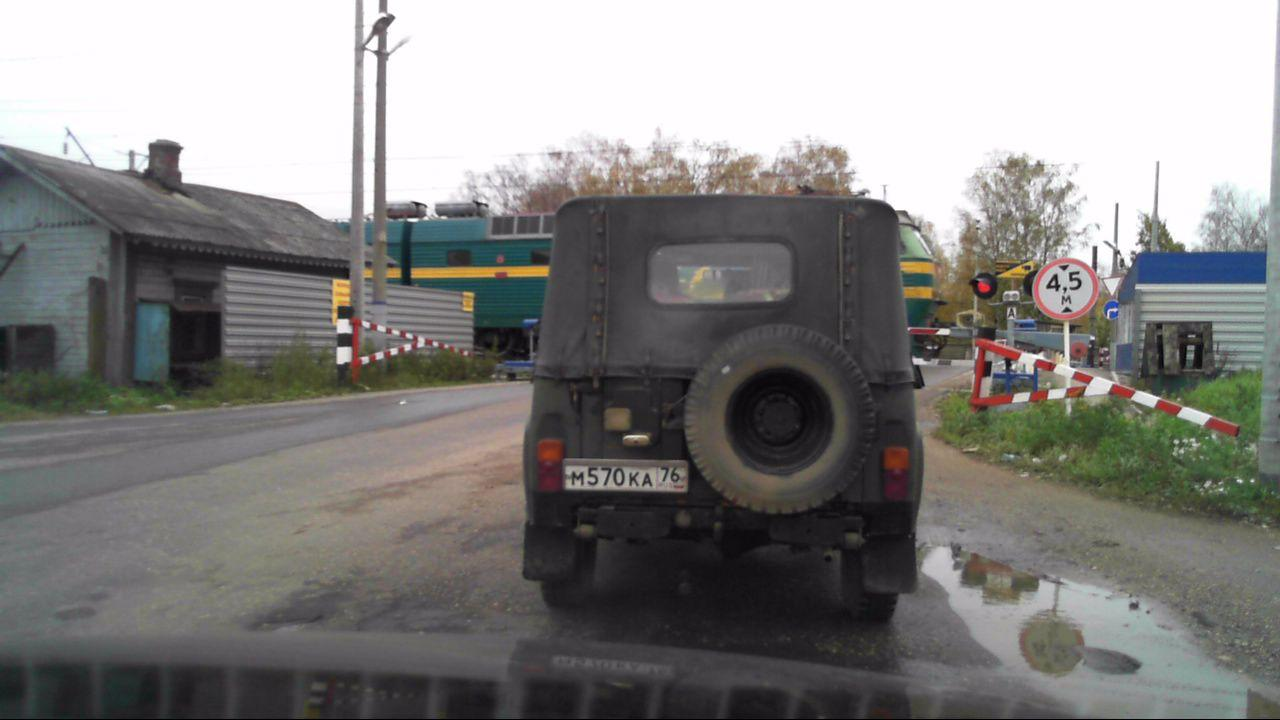3_13: (1032, 258, 1098, 321)
